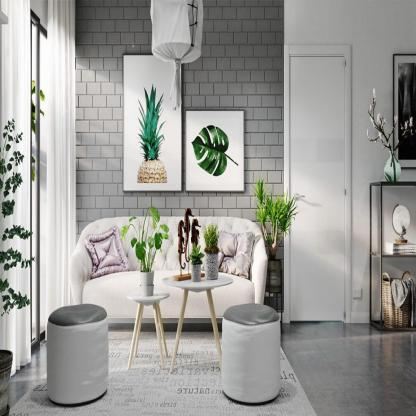kursi: (218, 300, 287, 408), (44, 301, 112, 409)
sova: (74, 212, 268, 334)
tanaman: (1, 125, 34, 330), (253, 181, 296, 263), (125, 210, 161, 294), (205, 227, 221, 281), (190, 244, 203, 281)
